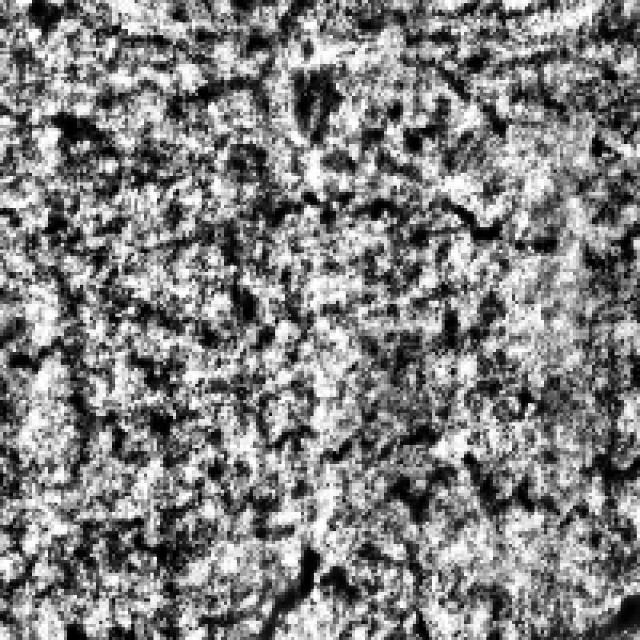Pitted_Surface: (198, 0, 566, 256), (259, 384, 637, 522)
